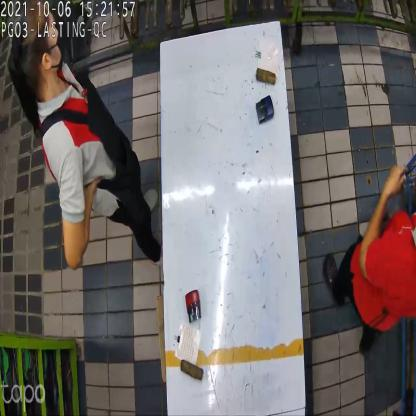stamp: (255, 94, 275, 128), (184, 291, 203, 326)
